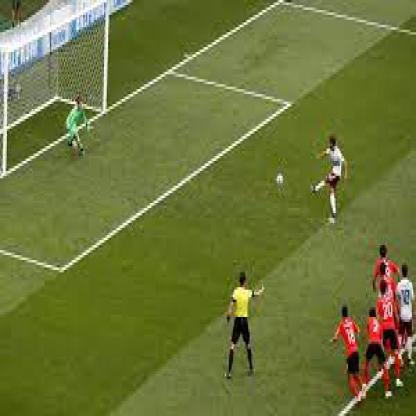penalty kick: (8, 11, 371, 249)
